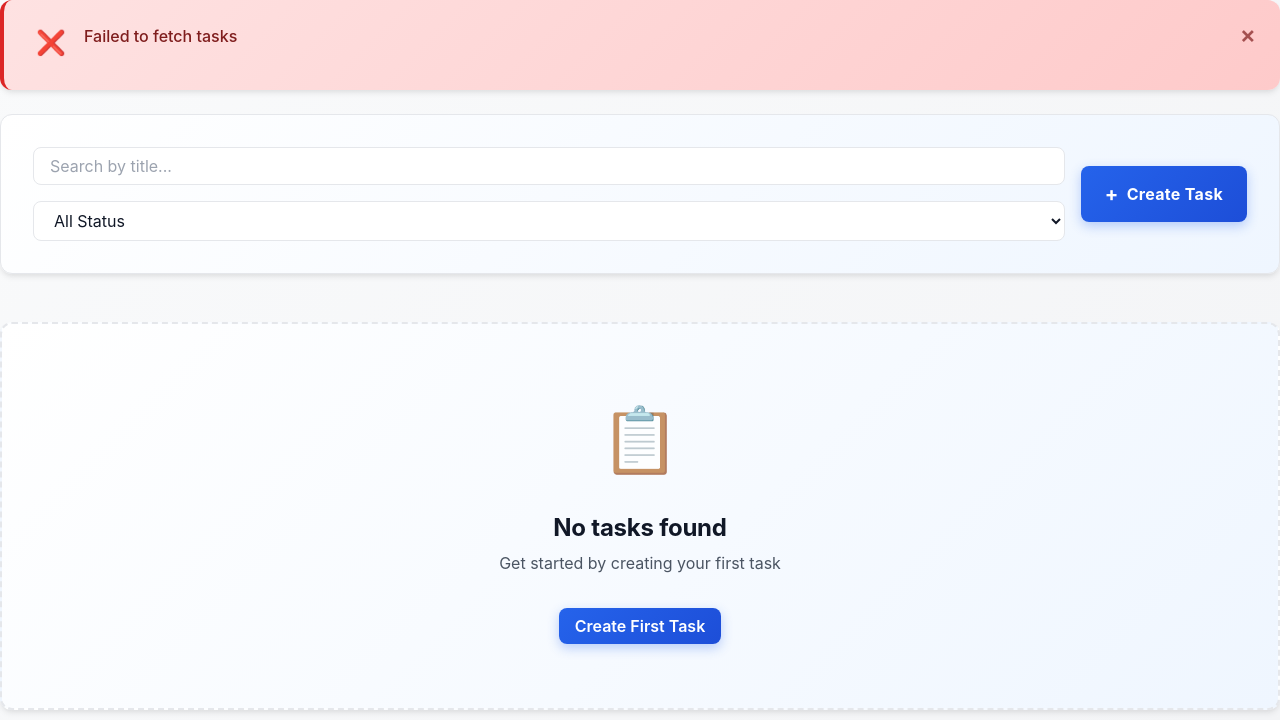
TaskList Integration Tests › Error Handling › should clear error message when manually dismissed
Expected: the text "Failed to fetch tasks" is shown, [84,26,237,46]
Click the button named "close". click: (1248,34)
box: [1240,20,1256,49]
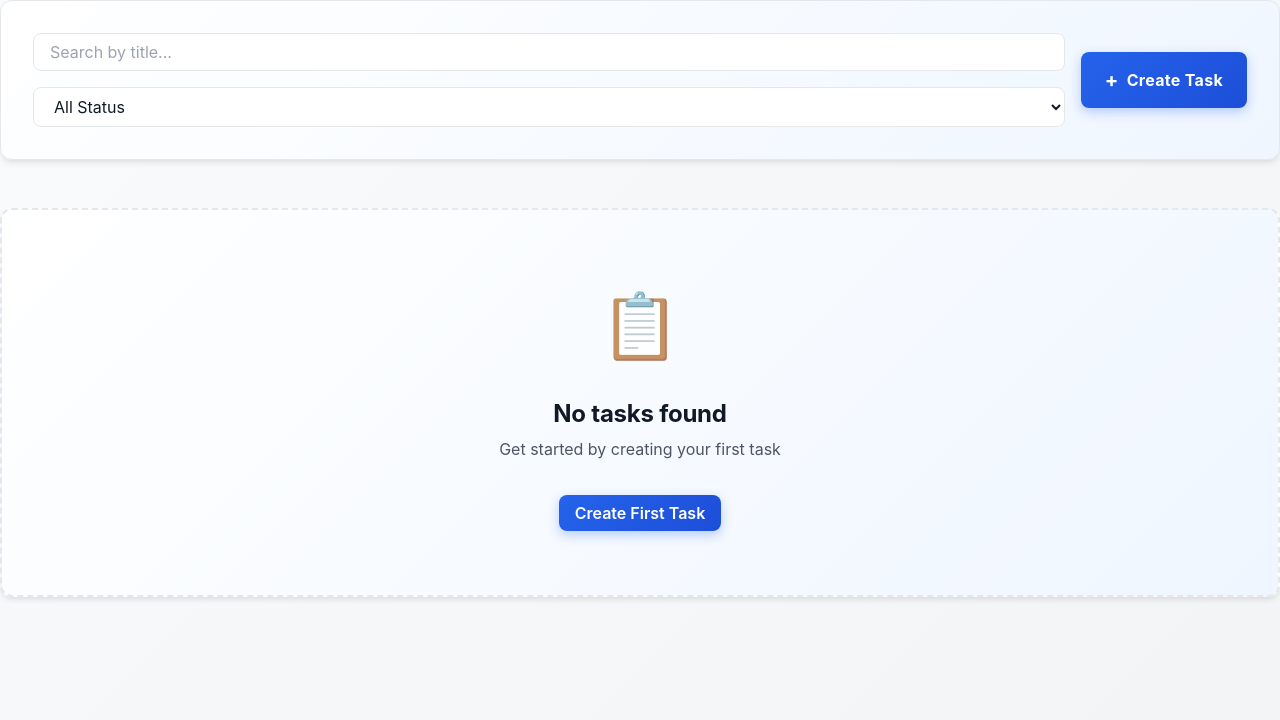
Expected: the text "Failed to fetch tasks" is gone
